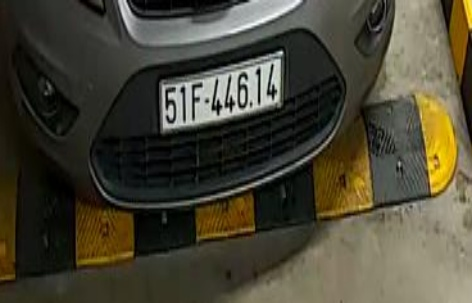plate: (152, 53, 297, 135)
